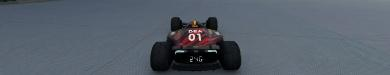Car: (149, 16, 241, 71)
grass: (0, 0, 389, 74)
